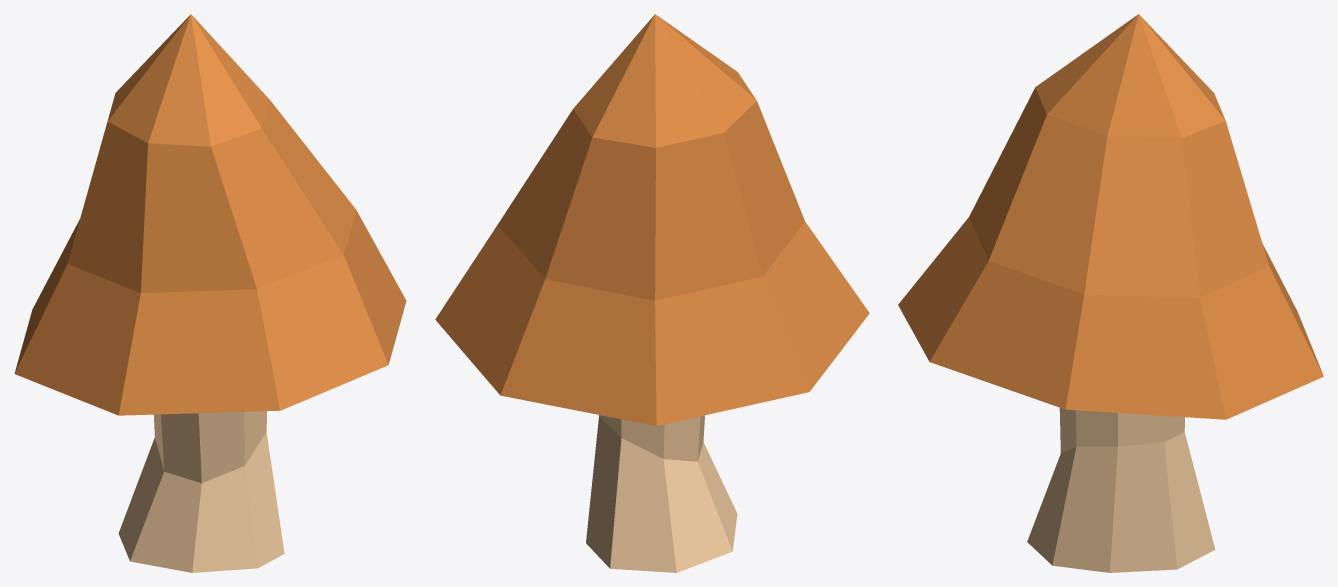
Rendered from mushroom2.gltf.
The picture shows the model from 3 angles, left to right: view 1: azimuth 30°, elevation 25°; view 2: azimuth 150°, elevation 25°; view 3: azimuth 270°, elevation 25°; orthographic projection.
Visible parts, largest first — view 1: Mushroom2_Mushroom4_2_0, Mushroom2_Mushroom4_1_0; view 2: Mushroom2_Mushroom4_2_0, Mushroom2_Mushroom4_1_0; view 3: Mushroom2_Mushroom4_2_0, Mushroom2_Mushroom4_1_0.
Part boxes in pixels (x1=…): Mushroom2_Mushroom4_2_0: x1=14, y1=14, x2=406, y2=415; Mushroom2_Mushroom4_1_0: x1=118, y1=411, x2=284, y2=572; Mushroom2_Mushroom4_2_0: x1=435, y1=14, x2=869, y2=425; Mushroom2_Mushroom4_1_0: x1=586, y1=415, x2=737, y2=572; Mushroom2_Mushroom4_2_0: x1=898, y1=14, x2=1323, y2=419; Mushroom2_Mushroom4_1_0: x1=1027, y1=408, x2=1215, y2=572.
Bounding box in the file's own units: 0.4847 × 0.7083 × 0.5137.
